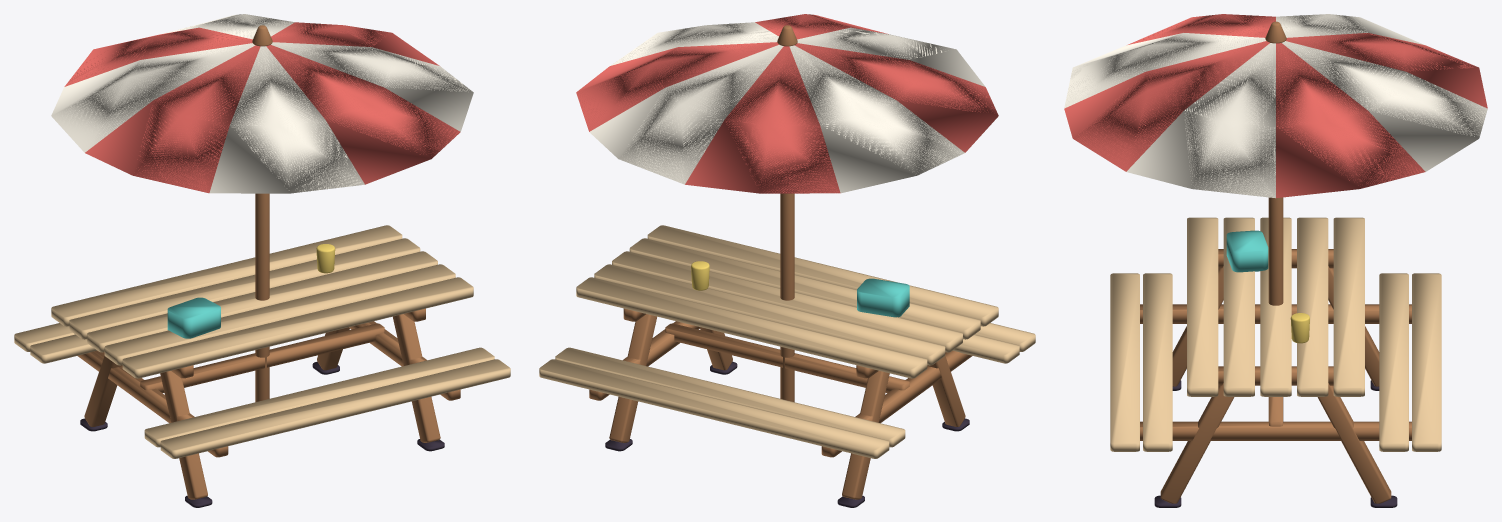
File: picnic-table.glb
The picture shows the model from 3 angles, left to right: view 1: azimuth 30°, elevation 25°; view 2: azimuth 150°, elevation 25°; view 3: azimuth 270°, elevation 25°; orthographic projection. The views are drawn at different scales.
Visible parts, largest first — view 1: YardPicnicTable_WoodLightPlanks, YardPicnicTable_CoralCanopy, YardPicnicTable_CreamCanopy, YardPicnicTable_WoodFrame, YardPicnicTable_TurquoiseLunchbox, YardPicnicTable_SlatePads; view 2: YardPicnicTable_WoodLightPlanks, YardPicnicTable_CreamCanopy, YardPicnicTable_CoralCanopy, YardPicnicTable_WoodFrame, YardPicnicTable_TurquoiseLunchbox, YardPicnicTable_SlatePads; view 3: YardPicnicTable_WoodLightPlanks, YardPicnicTable_CoralCanopy, YardPicnicTable_CreamCanopy, YardPicnicTable_WoodFrame, YardPicnicTable_TurquoiseLunchbox, YardPicnicTable_SlatePads, YardPicnicTable_ButterTumbler.
Boxes of the visible parts, x1,y1,x2,y2 form: YardPicnicTable_WoodLightPlanks: (14,225,510,458); YardPicnicTable_CoralCanopy: (64,22,460,193); YardPicnicTable_CreamCanopy: (51,14,473,193); YardPicnicTable_WoodFrame: (77,25,460,499); YardPicnicTable_TurquoiseLunchbox: (167,297,220,338); YardPicnicTable_SlatePads: (80,361,444,507); YardPicnicTable_WoodLightPlanks: (539,225,1035,458); YardPicnicTable_CreamCanopy: (589,22,985,193); YardPicnicTable_CoralCanopy: (576,14,998,193); YardPicnicTable_WoodFrame: (589,25,972,499); YardPicnicTable_TurquoiseLunchbox: (857,278,909,317); YardPicnicTable_SlatePads: (605,361,969,507); YardPicnicTable_WoodLightPlanks: (1110,217,1441,451); YardPicnicTable_CoralCanopy: (1064,14,1487,198); YardPicnicTable_CreamCanopy: (1064,14,1487,198); YardPicnicTable_WoodFrame: (1140,21,1411,503); YardPicnicTable_TurquoiseLunchbox: (1226,230,1268,272); YardPicnicTable_SlatePads: (1154,380,1397,507); YardPicnicTable_ButterTumbler: (1290,313,1309,343).
Bounding box in the file's own units: 2.08 × 2.29 × 2.08.
